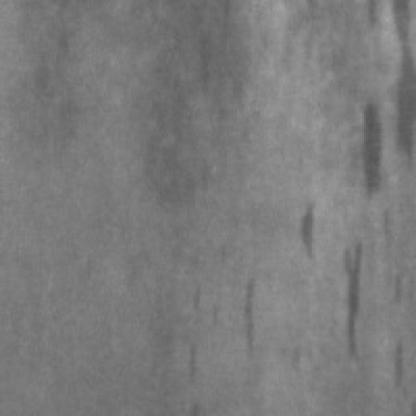inclusion: (29, 12, 85, 144), (183, 6, 237, 140), (179, 274, 225, 396), (347, 79, 387, 206), (362, 204, 408, 306), (332, 235, 368, 362), (231, 272, 264, 362), (284, 196, 320, 260), (380, 324, 410, 398)
